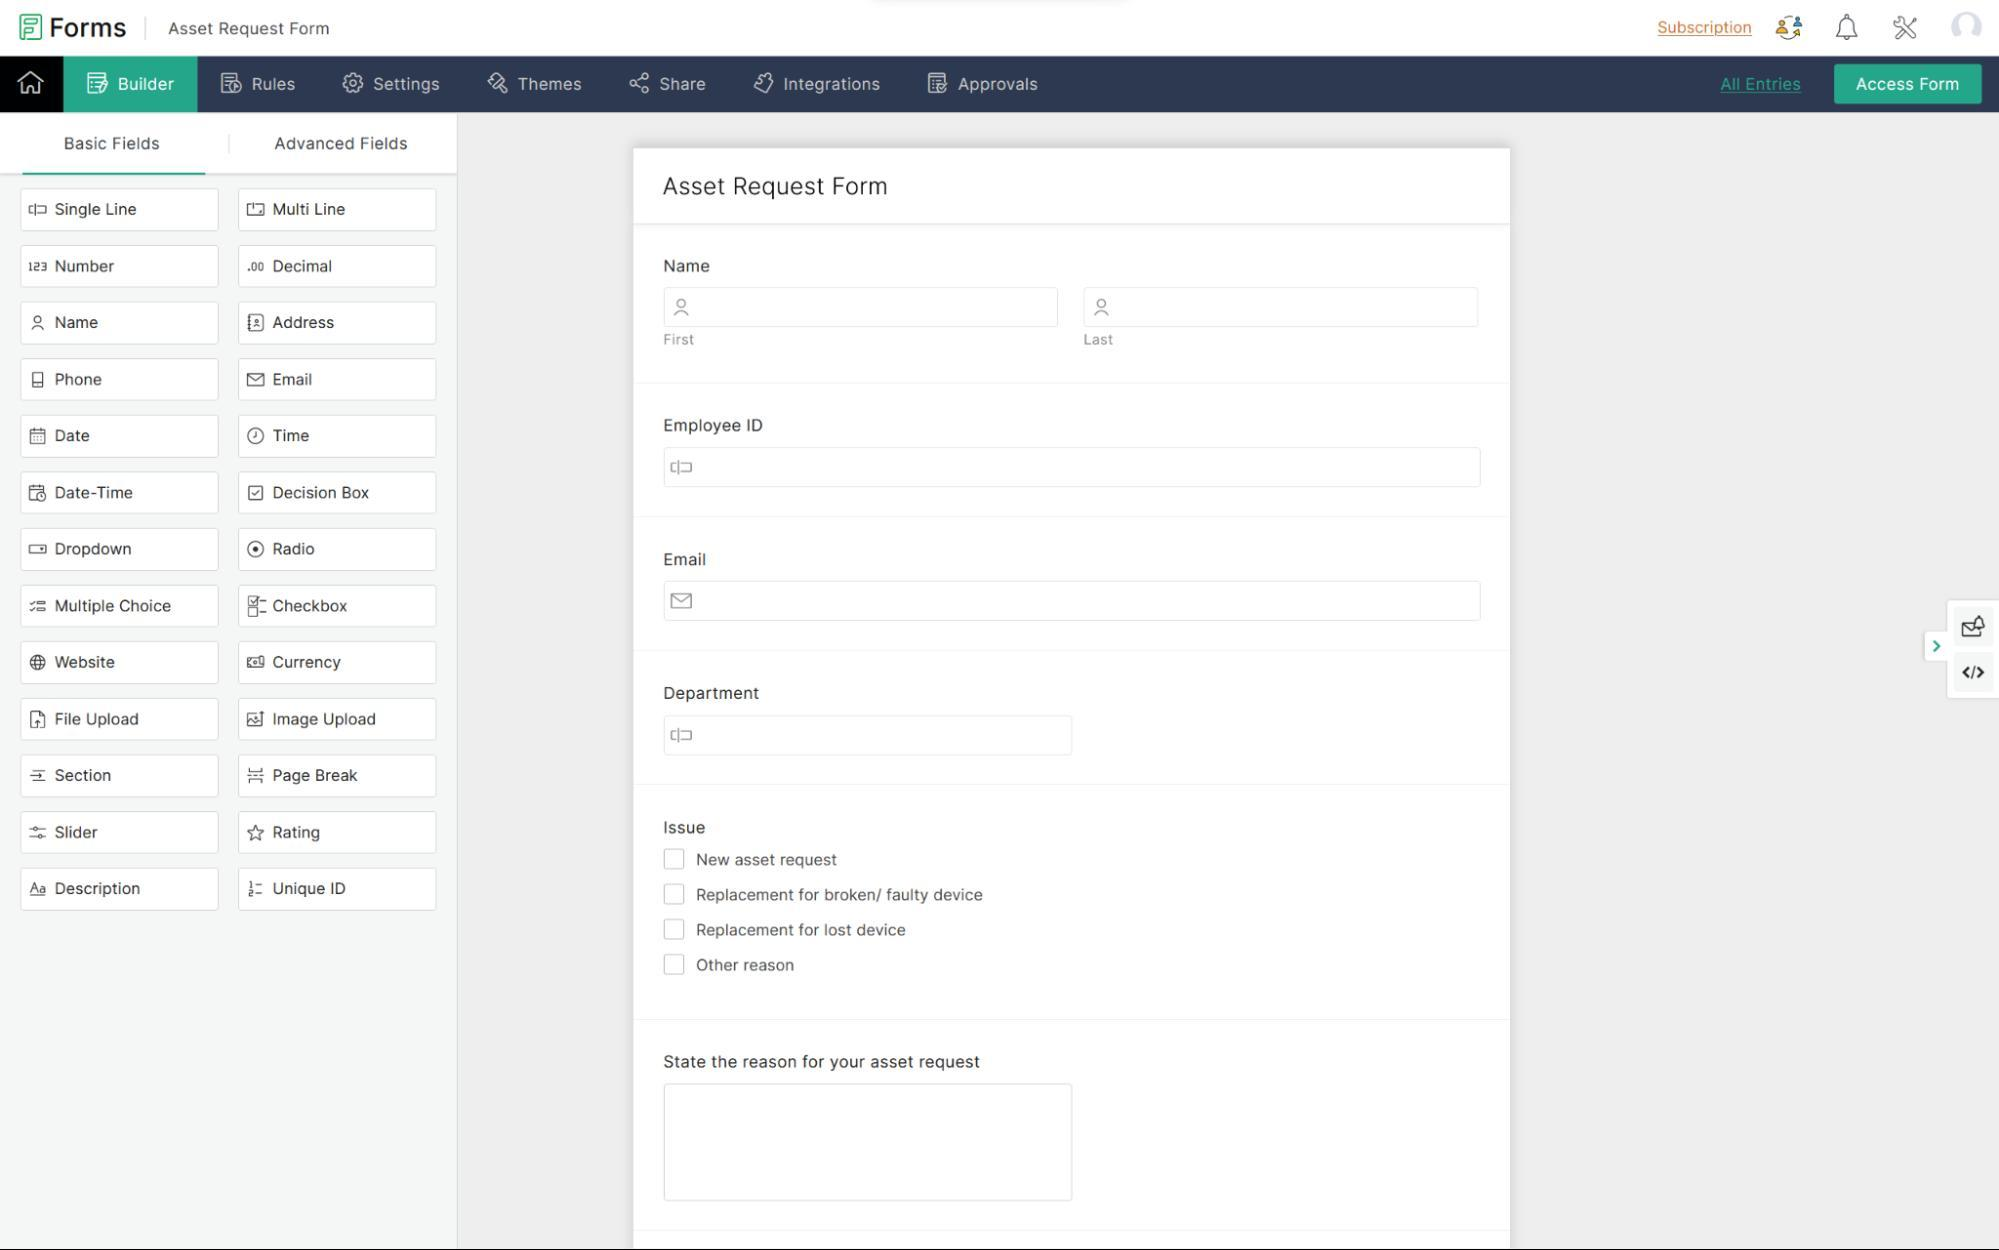button: (65, 58, 197, 114), (1833, 63, 1986, 108)
checkbox: (662, 850, 687, 873), (662, 953, 687, 976), (662, 919, 686, 942), (662, 886, 687, 907), (248, 485, 265, 504)
icon: (1777, 14, 1806, 46), (750, 71, 778, 98), (1892, 17, 1921, 43), (923, 72, 951, 98), (17, 72, 46, 96), (634, 71, 658, 99), (487, 71, 513, 96), (1836, 14, 1859, 43), (220, 71, 243, 96), (248, 593, 269, 621), (341, 73, 366, 96), (29, 428, 53, 451), (243, 878, 266, 903), (245, 202, 271, 223), (245, 314, 268, 336), (246, 710, 269, 732), (27, 314, 48, 337), (27, 709, 48, 732), (245, 768, 269, 786), (27, 484, 49, 504), (30, 765, 50, 786), (27, 202, 50, 220), (29, 654, 52, 673), (246, 372, 268, 390), (248, 425, 266, 446), (29, 880, 48, 899), (29, 541, 49, 559), (249, 825, 266, 845), (29, 259, 50, 275), (29, 599, 48, 616), (248, 655, 266, 673), (248, 261, 268, 275), (32, 372, 46, 392), (27, 822, 45, 838)
input: (665, 446, 1483, 490), (664, 583, 1483, 624), (662, 714, 1077, 760), (662, 285, 1059, 328), (1084, 289, 1481, 328)
label: (664, 1053, 985, 1071), (697, 887, 984, 906), (697, 923, 907, 940), (272, 134, 421, 156), (53, 596, 176, 621), (271, 710, 380, 732), (697, 853, 840, 868), (782, 75, 883, 96), (62, 132, 163, 154), (269, 484, 373, 504), (269, 877, 354, 901), (956, 76, 1040, 99), (664, 418, 765, 436), (52, 711, 143, 732), (56, 199, 140, 220), (274, 766, 361, 786), (664, 685, 763, 703), (55, 880, 143, 899), (52, 541, 132, 562), (518, 72, 585, 96), (271, 200, 346, 220), (53, 485, 138, 503), (372, 76, 444, 96), (697, 959, 796, 974), (274, 598, 350, 616), (277, 256, 338, 279), (272, 312, 337, 334), (272, 652, 341, 673), (53, 765, 115, 786), (53, 259, 124, 278), (271, 537, 324, 562), (58, 652, 117, 673), (662, 256, 711, 278), (53, 372, 102, 392), (274, 825, 323, 845), (661, 76, 709, 96), (662, 552, 709, 570), (251, 76, 297, 95), (58, 824, 101, 842), (272, 370, 315, 387), (55, 315, 101, 331), (662, 821, 707, 837), (277, 428, 313, 446), (55, 431, 94, 448)
radio: (248, 541, 265, 562)
